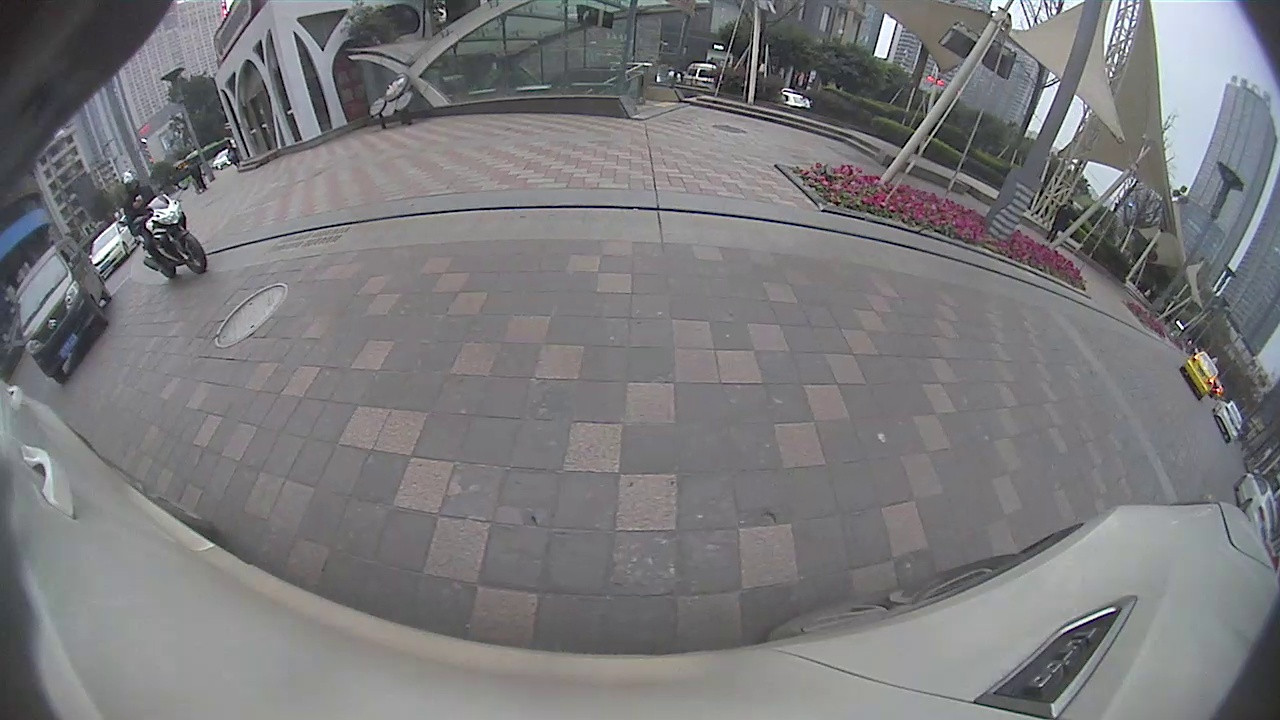car: (12, 236, 112, 383), (1178, 349, 1220, 400)
front: (178, 232, 207, 276)
rider: (117, 168, 209, 279)
